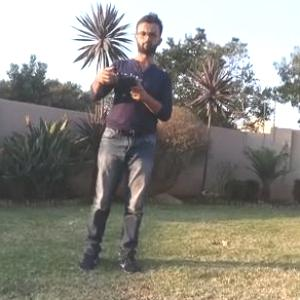follow: (70, 6, 178, 280)
